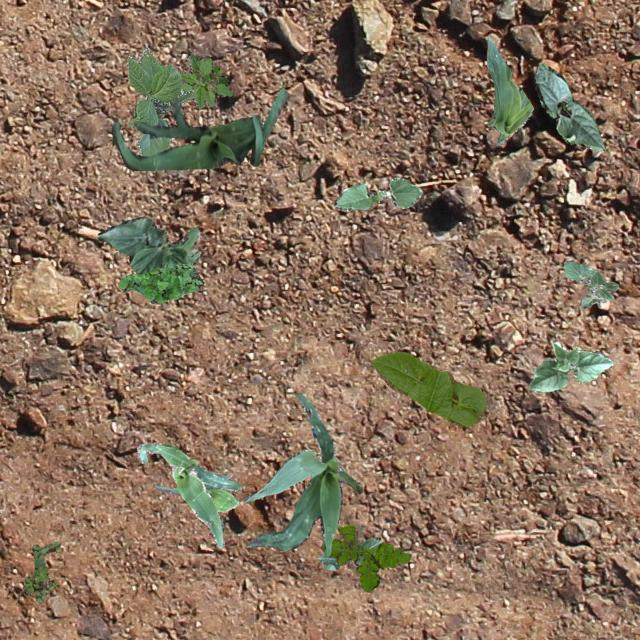crop: (242, 392, 362, 554), (110, 86, 286, 170), (136, 442, 240, 546), (370, 350, 486, 426), (127, 46, 196, 156), (534, 62, 604, 150), (96, 216, 200, 274), (486, 34, 532, 144), (528, 342, 612, 392), (154, 470, 238, 510), (334, 177, 422, 210), (562, 260, 618, 308), (318, 536, 380, 568)
weed: (326, 524, 409, 590), (116, 262, 202, 302), (178, 54, 232, 106), (22, 540, 58, 602)
